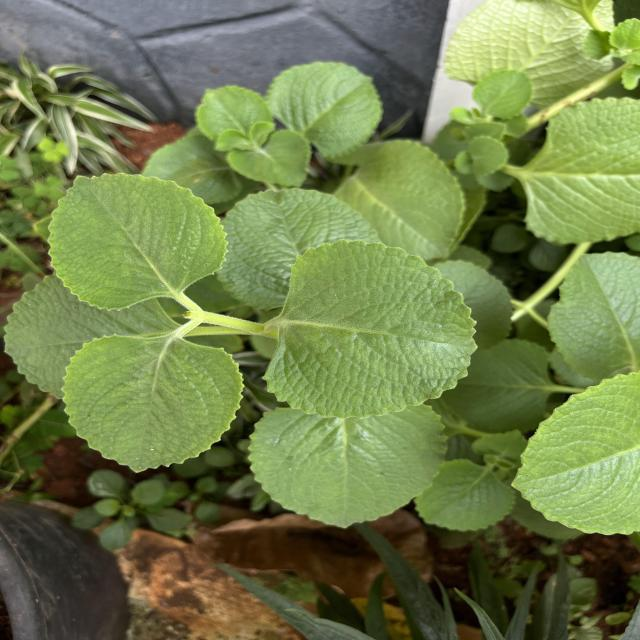Plectranthus barbatus: (260, 238, 480, 422), (59, 332, 247, 475), (46, 172, 230, 314), (246, 402, 449, 530), (509, 370, 640, 537), (219, 186, 382, 312), (522, 96, 640, 248), (333, 137, 465, 261), (266, 61, 382, 160), (414, 458, 516, 533), (225, 129, 312, 189), (195, 84, 274, 140), (470, 68, 532, 120)
